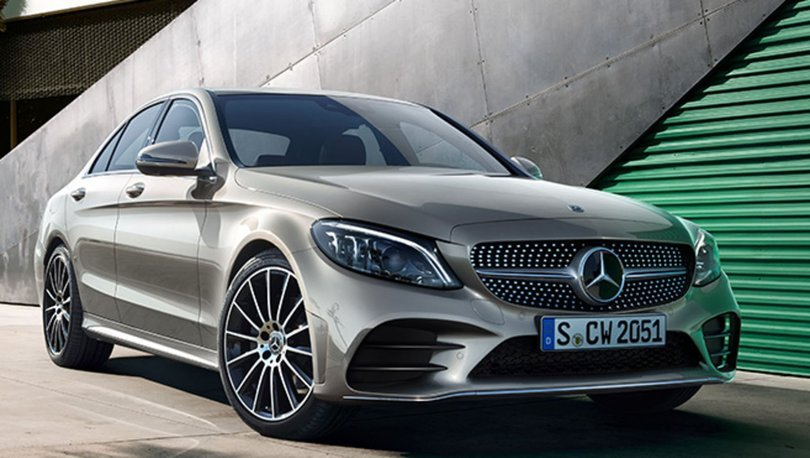araba: (32, 87, 741, 436)
